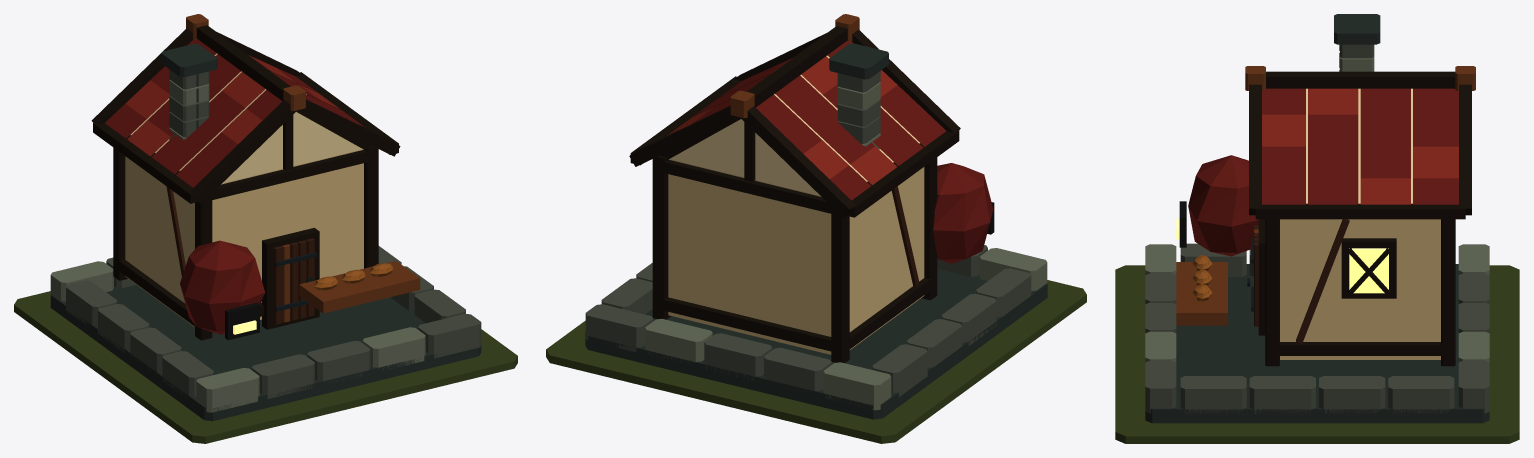
File: bakery_t3.glb
The picture shows the model from 3 angles, left to right: view 1: azimuth 30°, elevation 25°; view 2: azimuth 150°, elevation 25°; view 3: azimuth 270°, elevation 25°; orthographic projection. The views are drawn at different scales.
Visible parts, largest first — view 1: MMR | bakery | T03 Architecture.001, MMR | bakery | Tier 03 Ground.001; view 2: MMR | bakery | T03 Architecture.001, MMR | bakery | Tier 03 Ground.001; view 3: MMR | bakery | T03 Architecture.001, MMR | bakery | Tier 03 Ground.001.
Part boxes in pixels (box(x1,y1,x2,y2)): MMR | bakery | T03 Architecture.001: box(50, 14, 481, 421); MMR | bakery | Tier 03 Ground.001: box(14, 291, 517, 443); MMR | bakery | T03 Architecture.001: box(585, 14, 1047, 419); MMR | bakery | Tier 03 Ground.001: box(546, 280, 1086, 443); MMR | bakery | T03 Architecture.001: box(1145, 14, 1489, 423); MMR | bakery | Tier 03 Ground.001: box(1115, 265, 1519, 443).
Bounding box in the file's own units: 2.35 × 1.95 × 2.35.
2 materials, 1 textured.
